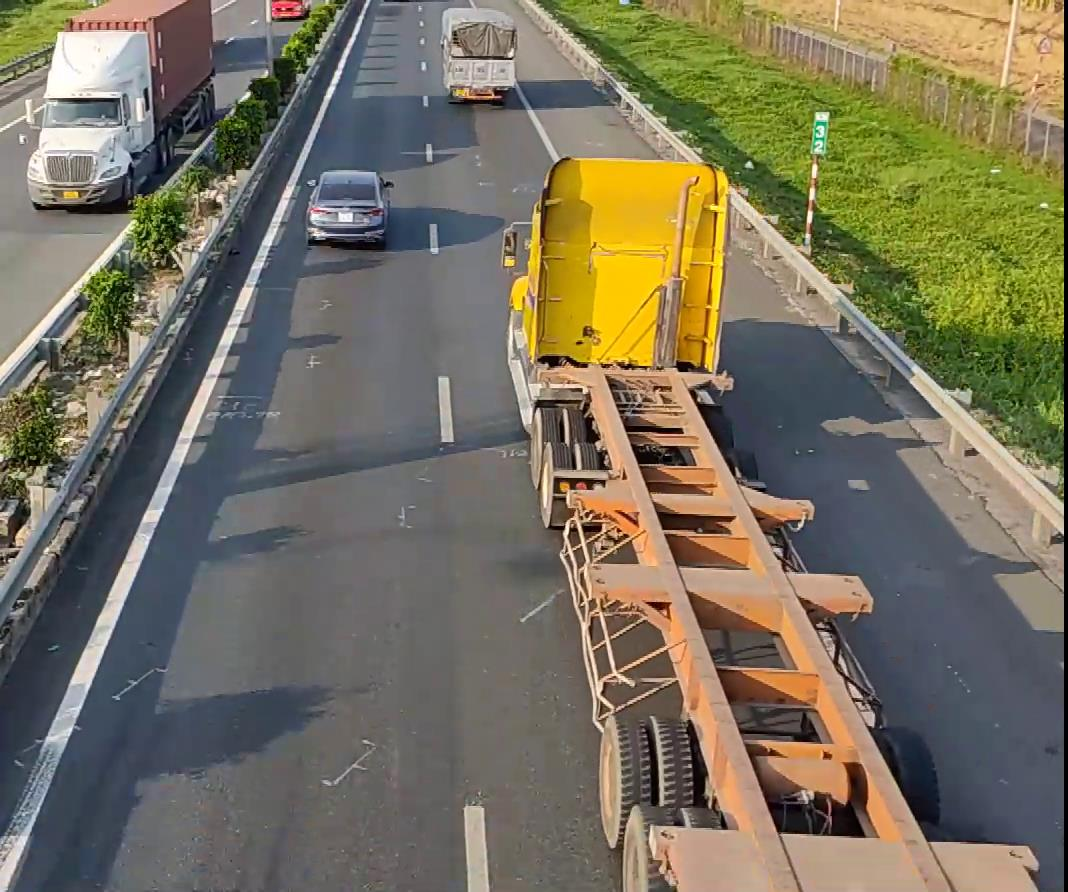car: (304, 169, 390, 245)
container: (493, 155, 1039, 889), (24, 0, 216, 210)
truck: (439, 2, 518, 103)
